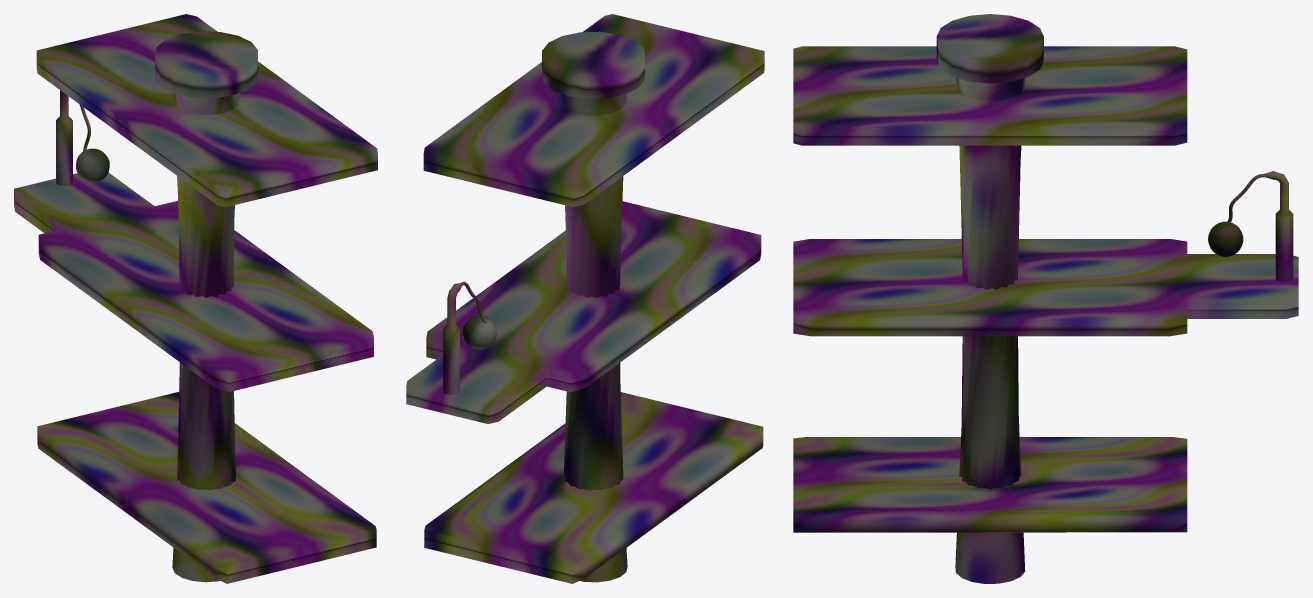
File: ArranhadorMenu.fbx
3 renders of one model, left to right at view 1: azimuth 30°, elevation 25°; view 2: azimuth 150°, elevation 25°; view 3: azimuth 270°, elevation 25°, orthographic. The views are drawn at different scales.
Parts seen in each view (by area): view 1: Cube; view 2: Cube; view 3: Cube.
Part boxes in pixels (left/top/right/bottom): Cube: left=14, top=14, right=377, bottom=583; Cube: left=406, top=14, right=764, bottom=583; Cube: left=793, top=14, right=1298, bottom=583.
Size of the model in its own units: 407 by 1255 by 1079.
1 material, 1 textured.
